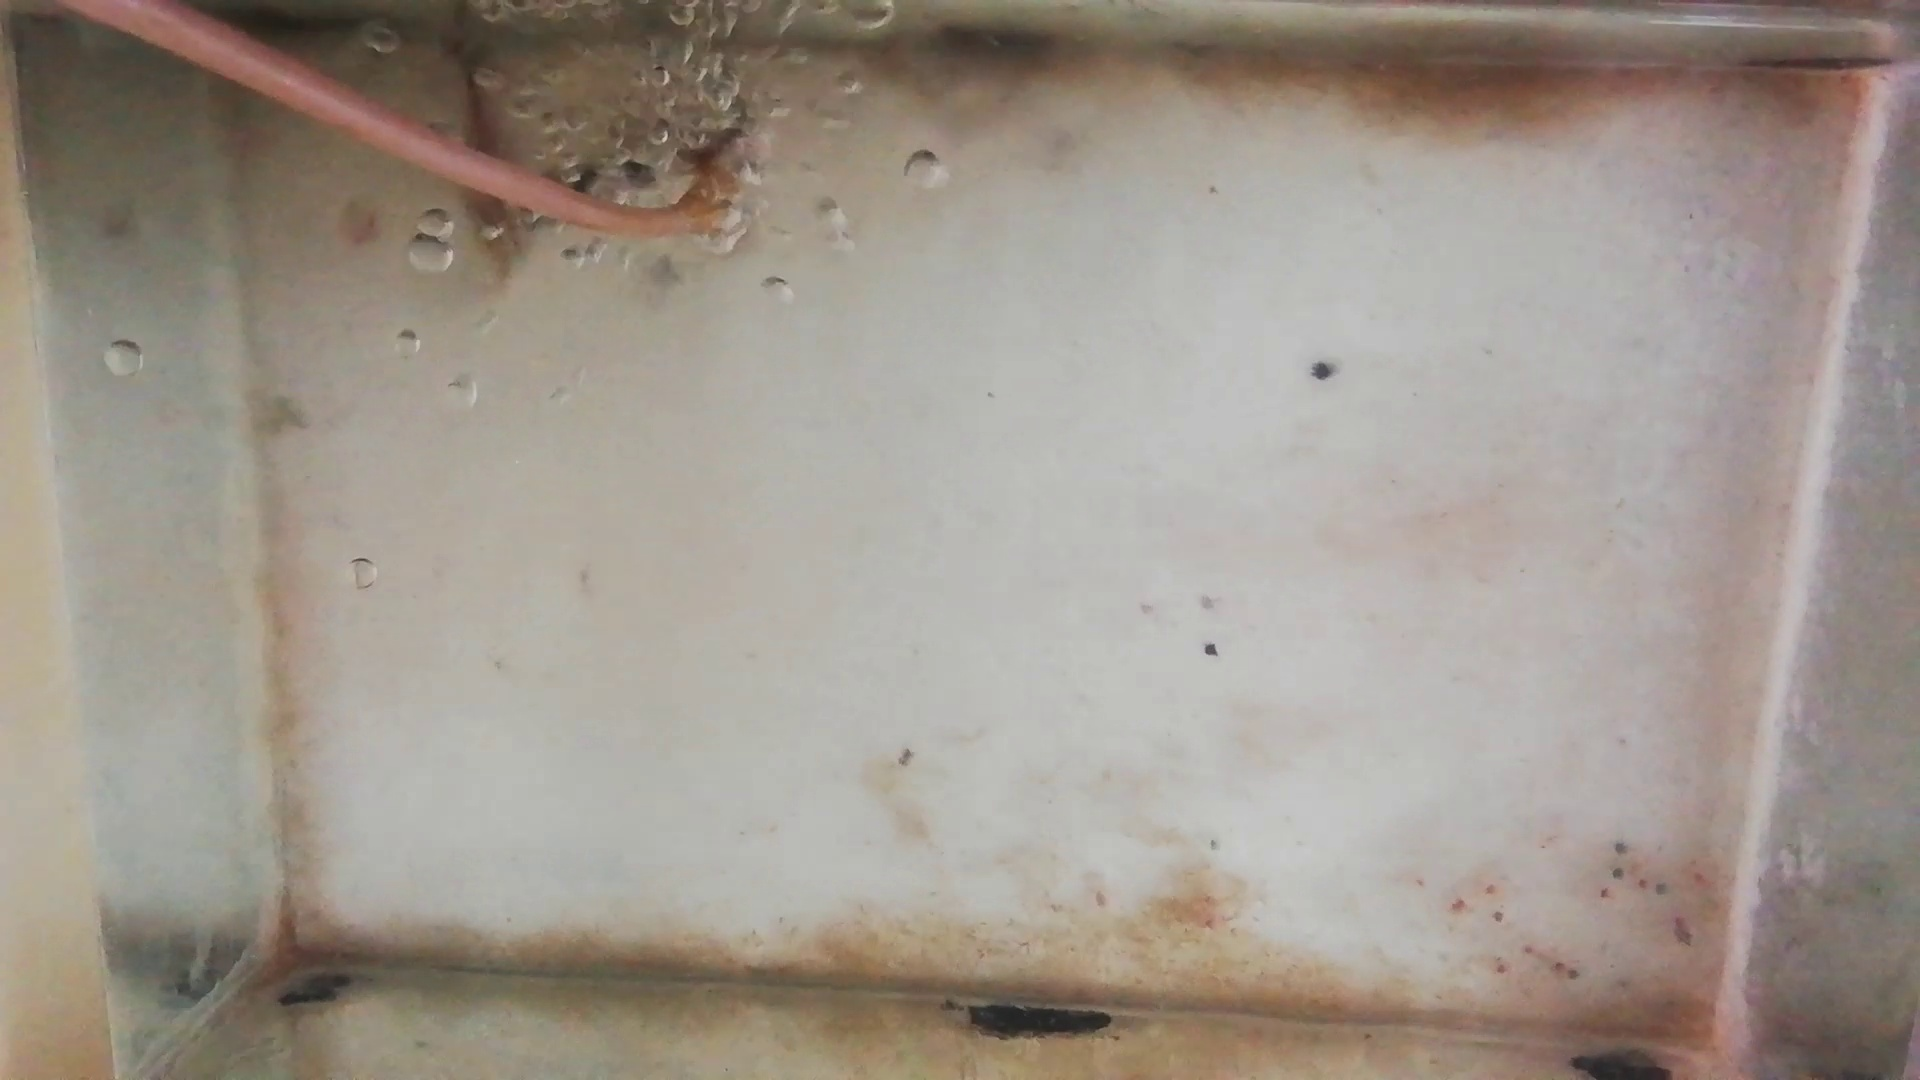fish: (458, 30, 525, 274)
